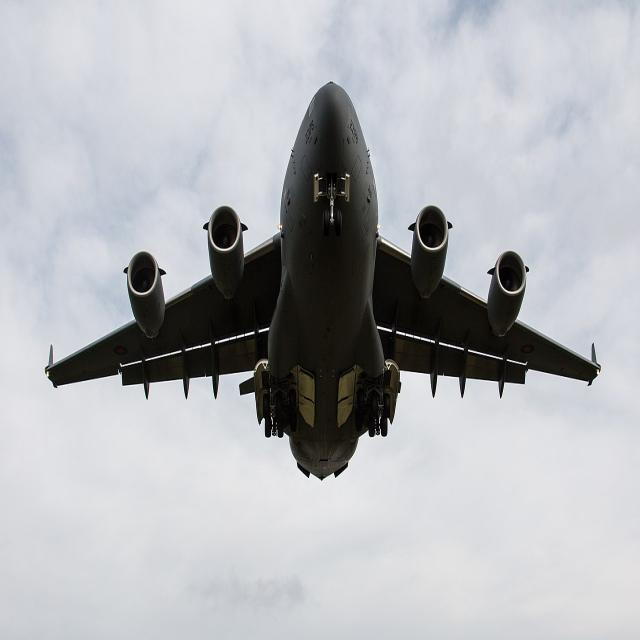MIL_Plane: (63, 79, 583, 482)
